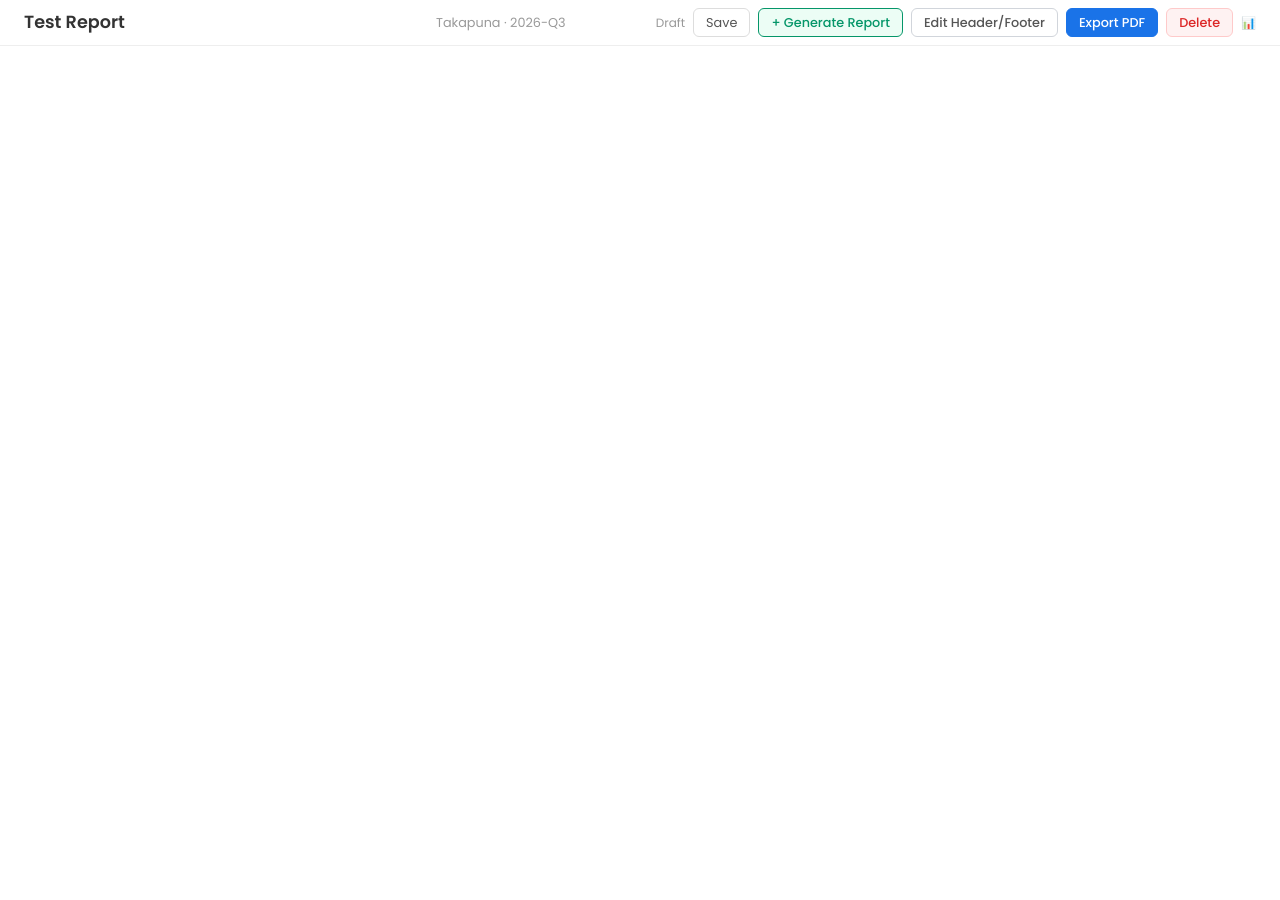
Test: Generate Report — Data Start Quarter defaults to 2025-Q1 › ReportToolbar Generate Report modal opens with 2025-Q1 selected
Click the button "+ Generate Report" at (831, 23), box [758, 8, 903, 37]
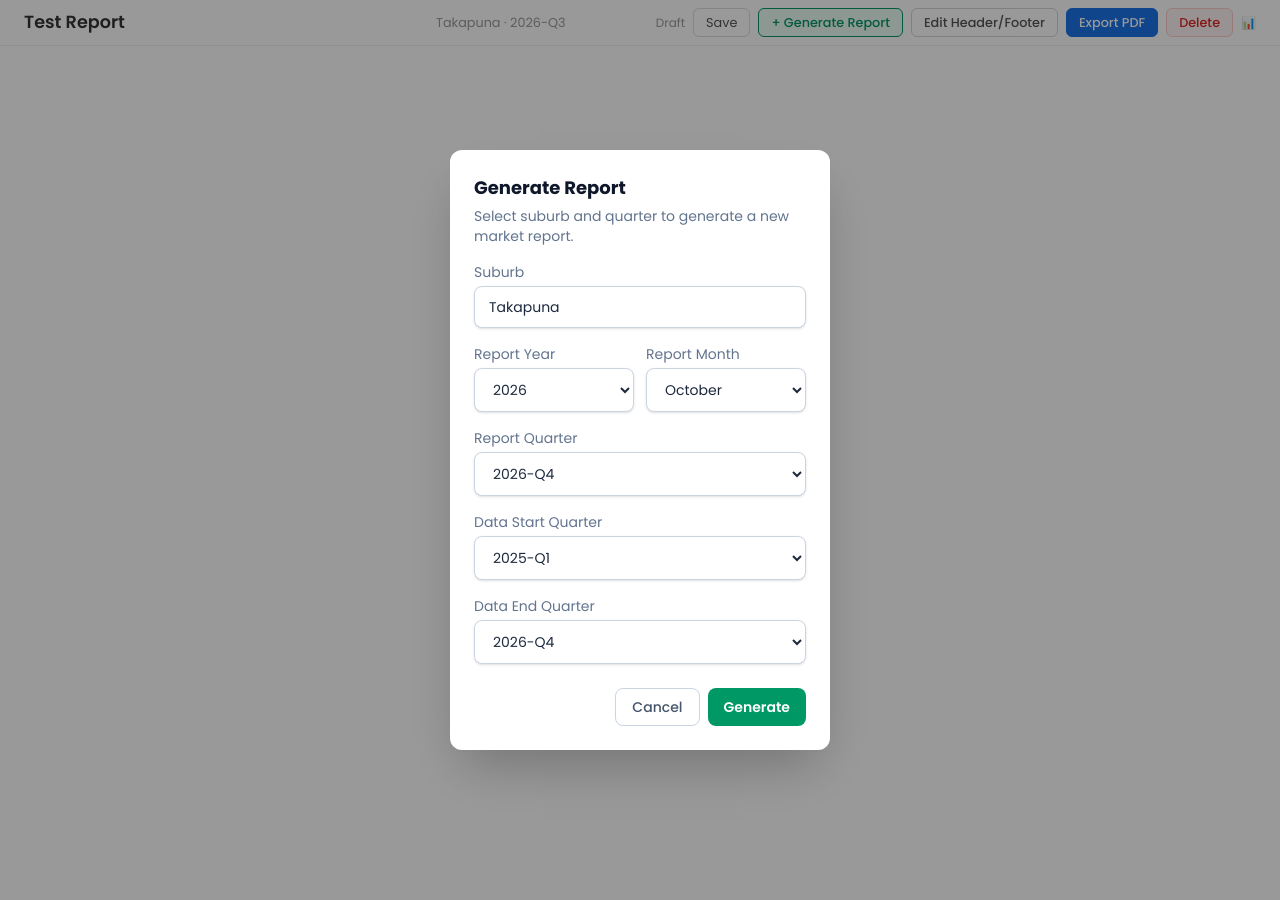
Check: the dropdown labelled "Data Start Quarter" shows "2025-Q1", box [474, 536, 806, 580]
